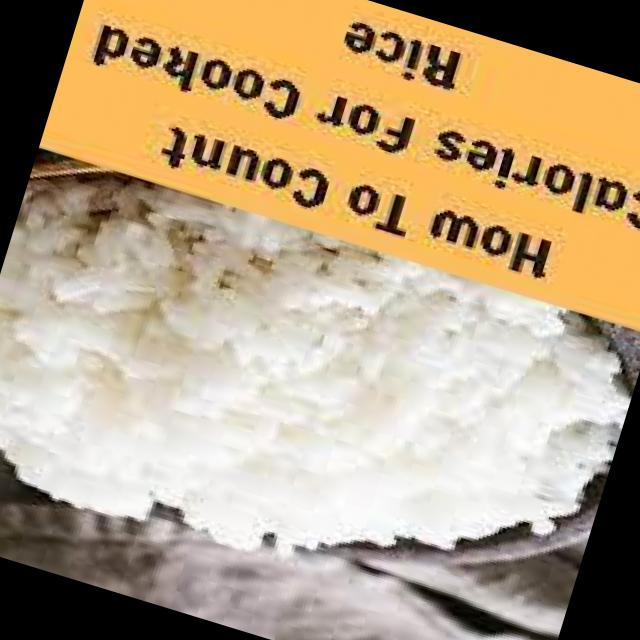rice: (0, 180, 629, 551)
